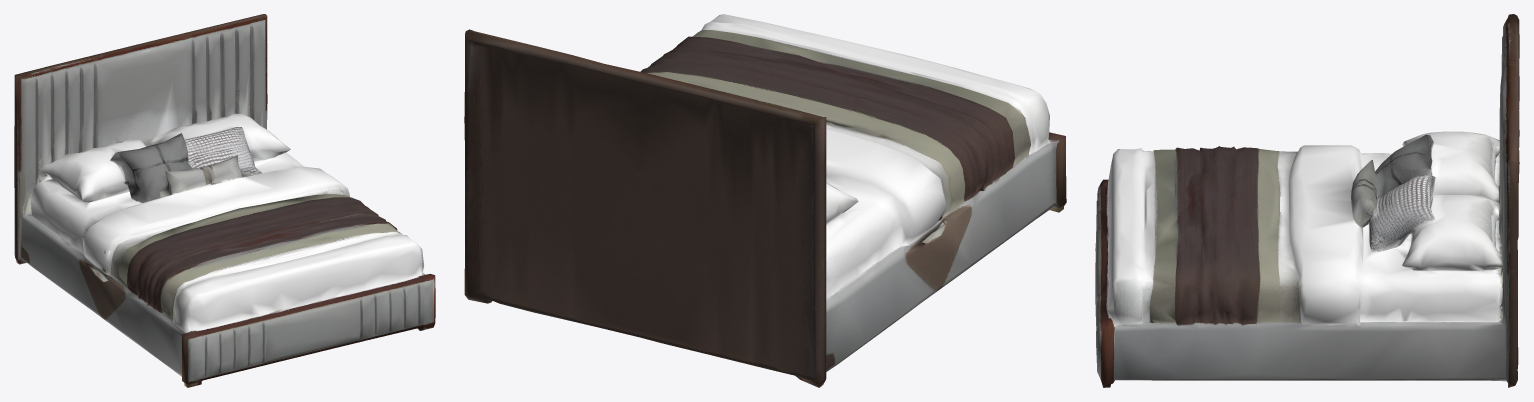
3 renders of one model, left to right at view 1: azimuth 30°, elevation 25°; view 2: azimuth 150°, elevation 25°; view 3: azimuth 270°, elevation 25°, orthographic. The views are drawn at different scales.
Size of the model in its own units: 1.57 by 1.13 by 1.91.
1 material, 1 textured.
